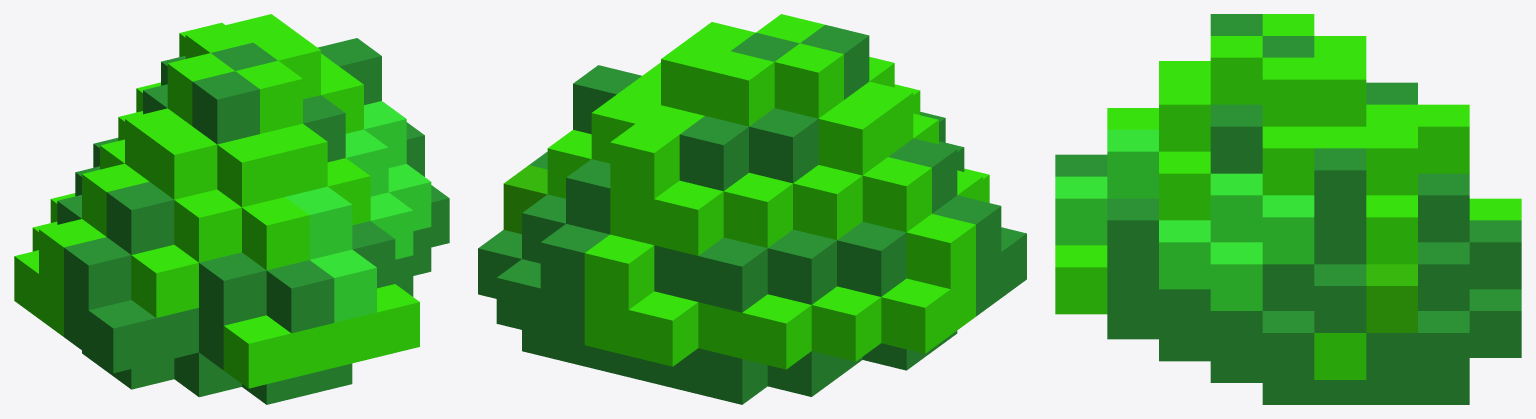
File: map_Second_Stage-11.obj
3 views of the same model, side by side, from view 1: azimuth 30°, elevation 25°; view 2: azimuth 150°, elevation 25°; view 3: azimuth 270°, elevation 25° (orthographic). The views are drawn at different scales.
Size of the model in its own units: 0.9 by 0.6 by 0.9.
1 material, 1 textured.
